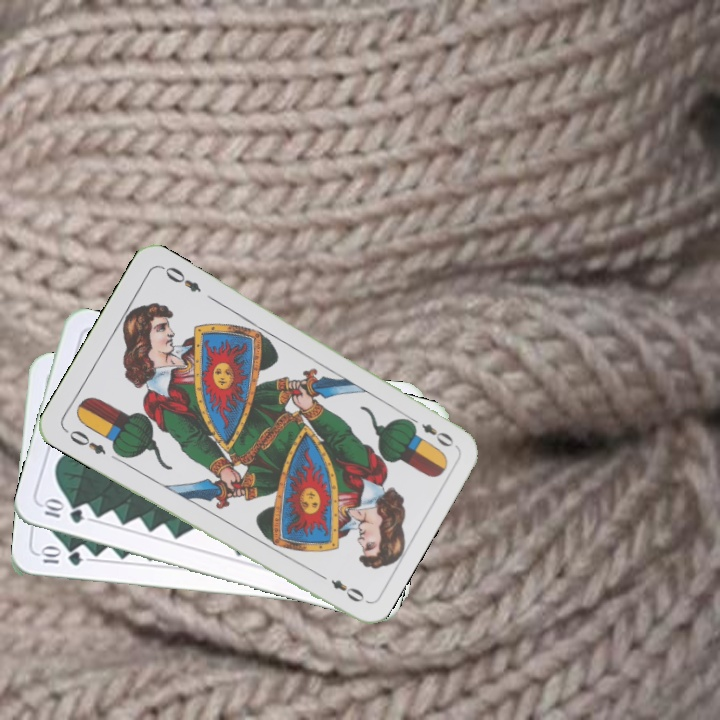EO: (403, 412, 457, 450), (65, 425, 109, 457)
G10: (38, 496, 86, 526), (37, 545, 85, 568)
